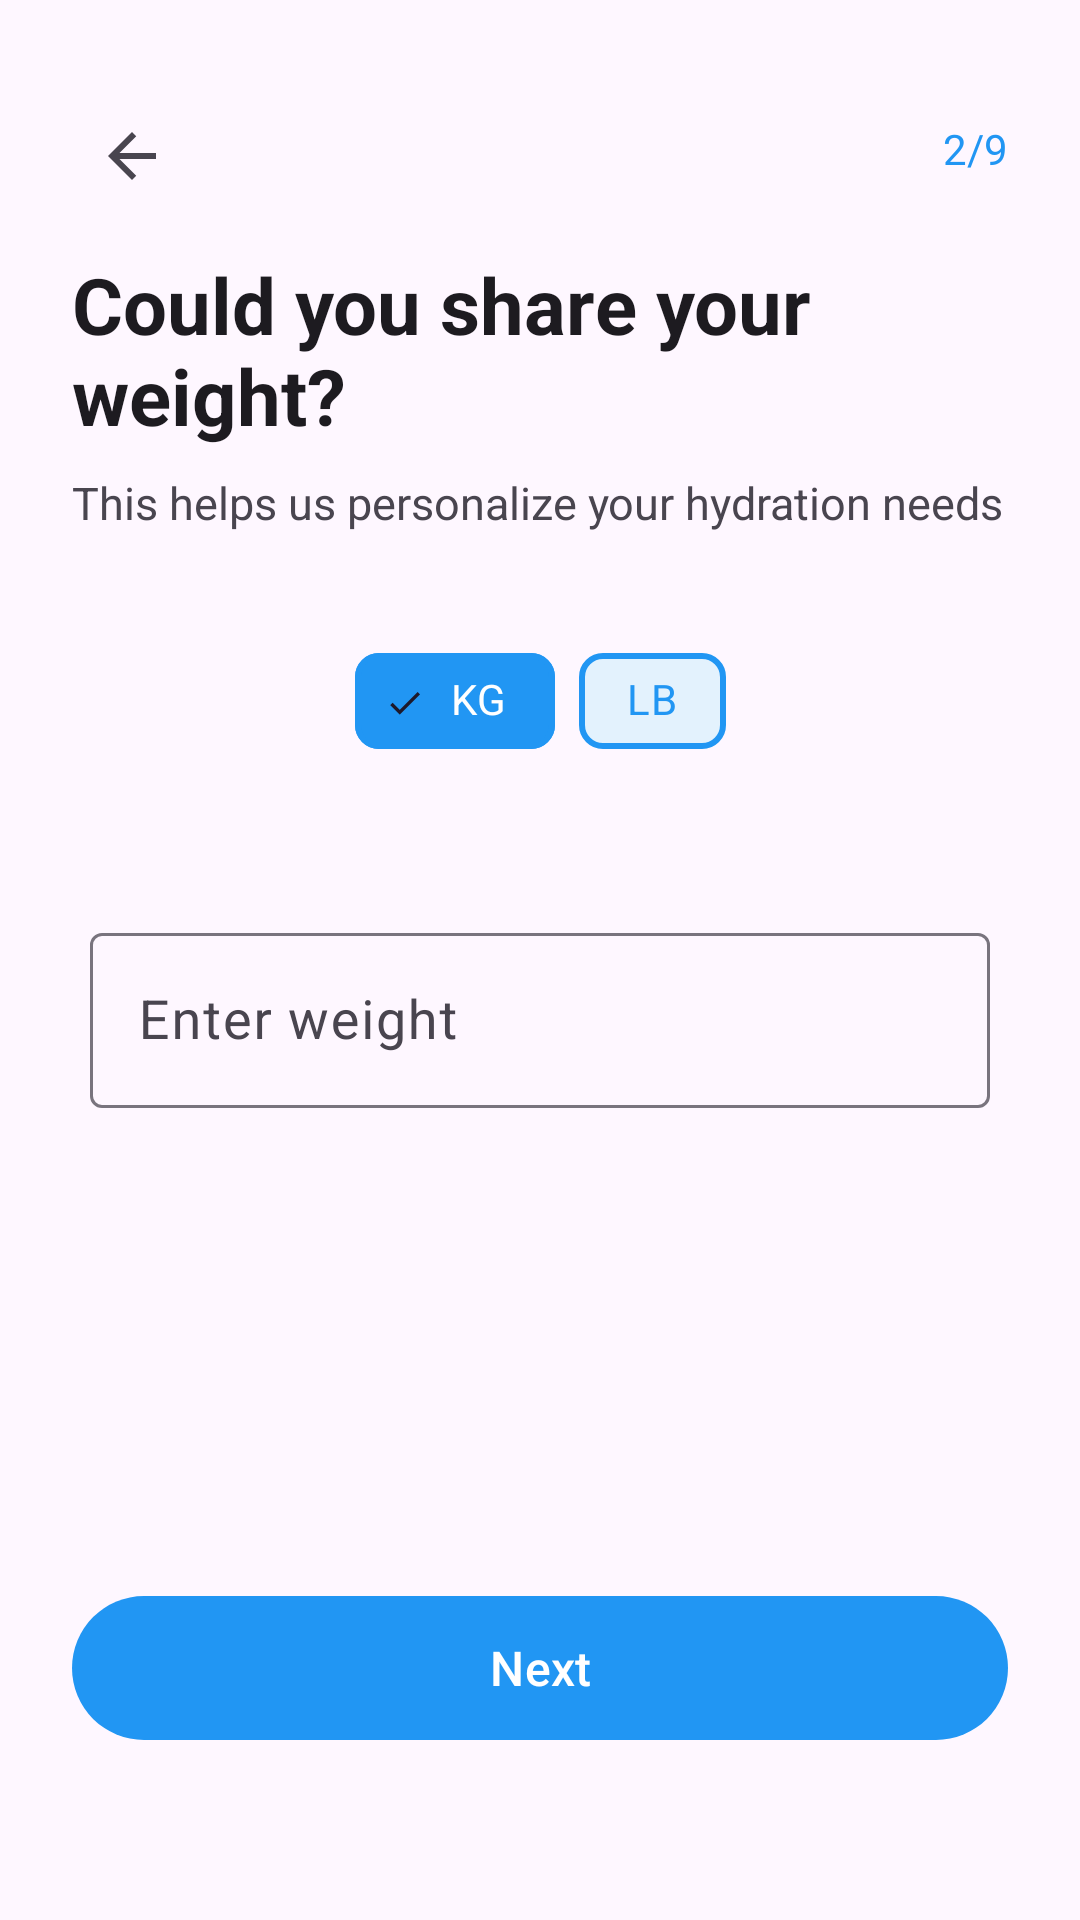

Screen size 1080w x 1920h. Icon name, then its center in pixels as (x=x, y=y):
Go back: (x=132, y=156)
